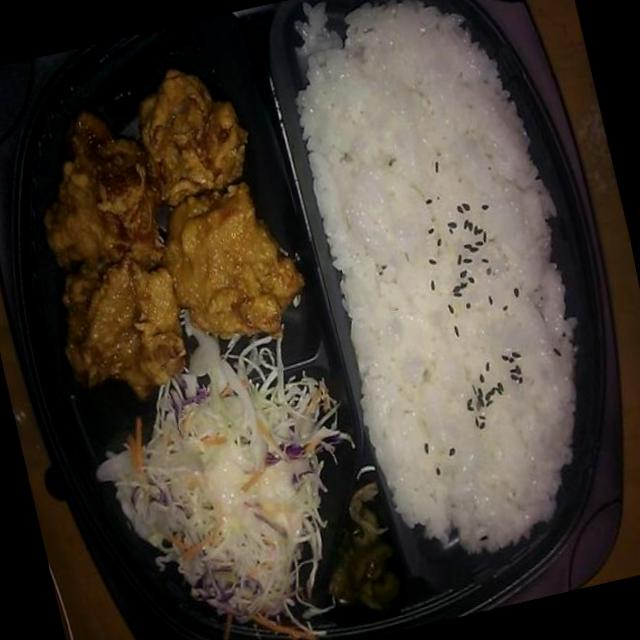Rice: (284, 0, 624, 583)
